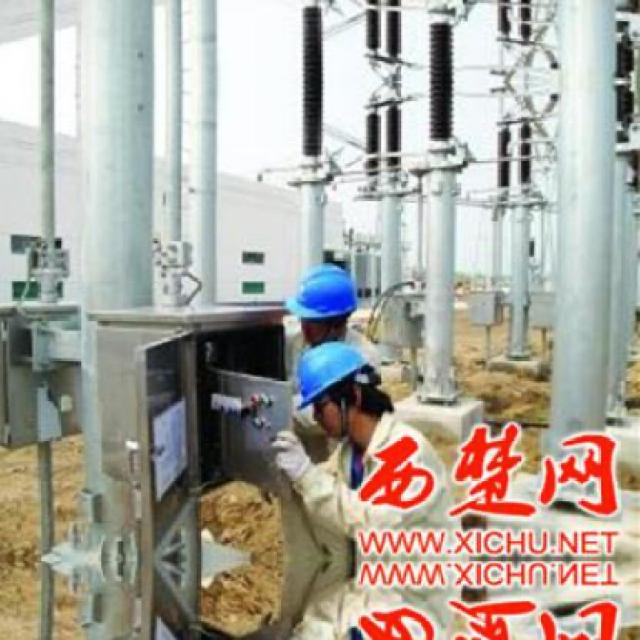helmet: (292, 338, 383, 434), (288, 260, 360, 343)
